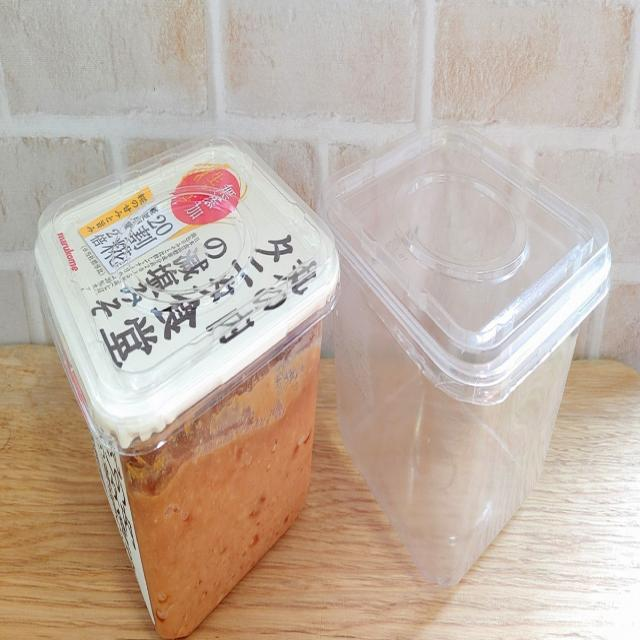plastic: (29, 123, 336, 636), (318, 110, 618, 599)
